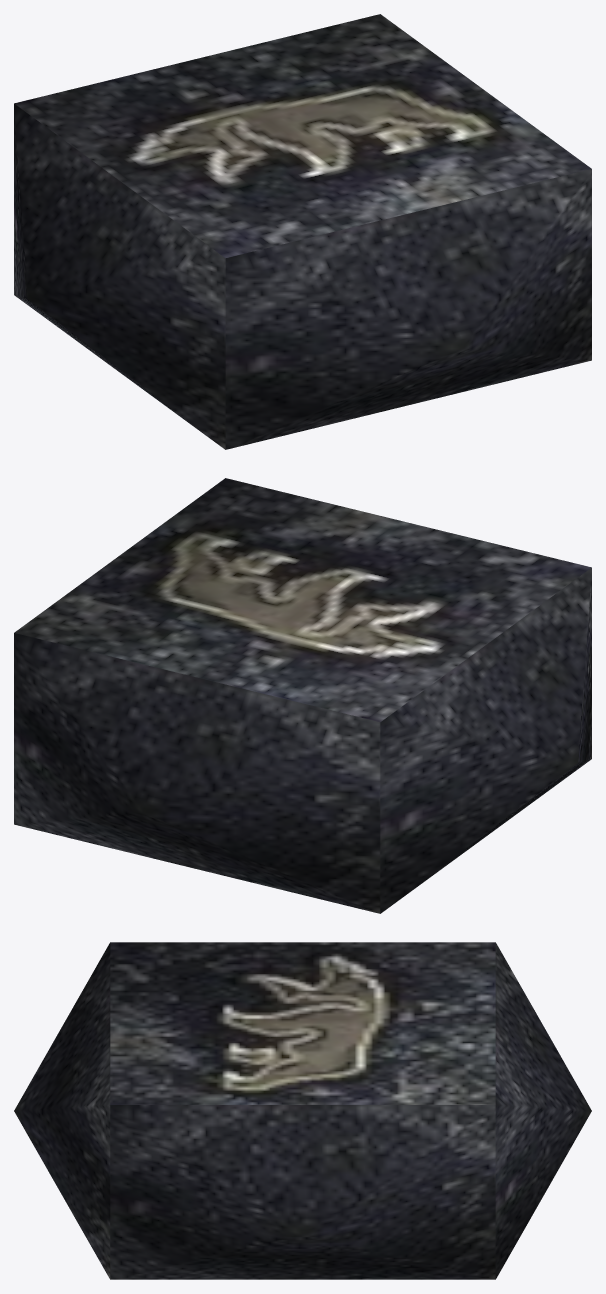
The model's file is ITRU_BEAR.glb.
3 views of the same model, one above another, from view 1: azimuth 30°, elevation 25°; view 2: azimuth 150°, elevation 25°; view 3: azimuth 270°, elevation 25° (orthographic). The views are drawn at different scales.
Parts seen in each view (by area): view 1: Mesh; view 2: Mesh; view 3: Mesh.
Part boxes in pixels (bbox=[...]): Mesh: bbox=[14, 14, 591, 449]; Mesh: bbox=[14, 478, 591, 913]; Mesh: bbox=[14, 942, 591, 1279].
Bounding box in the file's own units: 0.27 × 0.09 × 0.27.
Materials: 1 (1 with a texture image).
